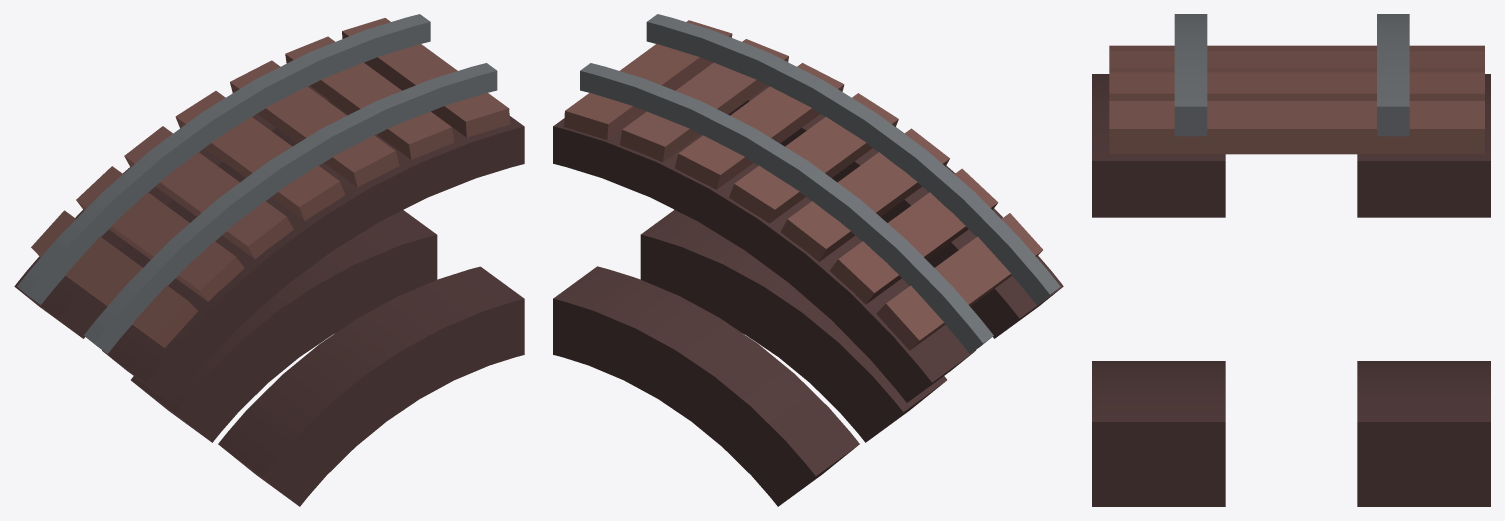
The model's file is DarkRoseWoodMechSharp0_85GaugeFall1.fbx.
3 views of the same model, side by side, from view 1: azimuth 30°, elevation 25°; view 2: azimuth 150°, elevation 25°; view 3: azimuth 270°, elevation 25° (orthographic). The views are drawn at different scales.
Visible parts, largest first — view 1: DarkRoseWoodMechSharp0_85GaugeFall1; view 2: DarkRoseWoodMechSharp0_85GaugeFall1; view 3: DarkRoseWoodMechSharp0_85GaugeFall1.
Boxes of the visible parts, x1,y1,x2,y2 form: DarkRoseWoodMechSharp0_85GaugeFall1: (14,14,524,506); DarkRoseWoodMechSharp0_85GaugeFall1: (553,14,1063,506); DarkRoseWoodMechSharp0_85GaugeFall1: (1092,14,1490,506).
Bounding box in the file's own units: 353 × 303 × 200.
